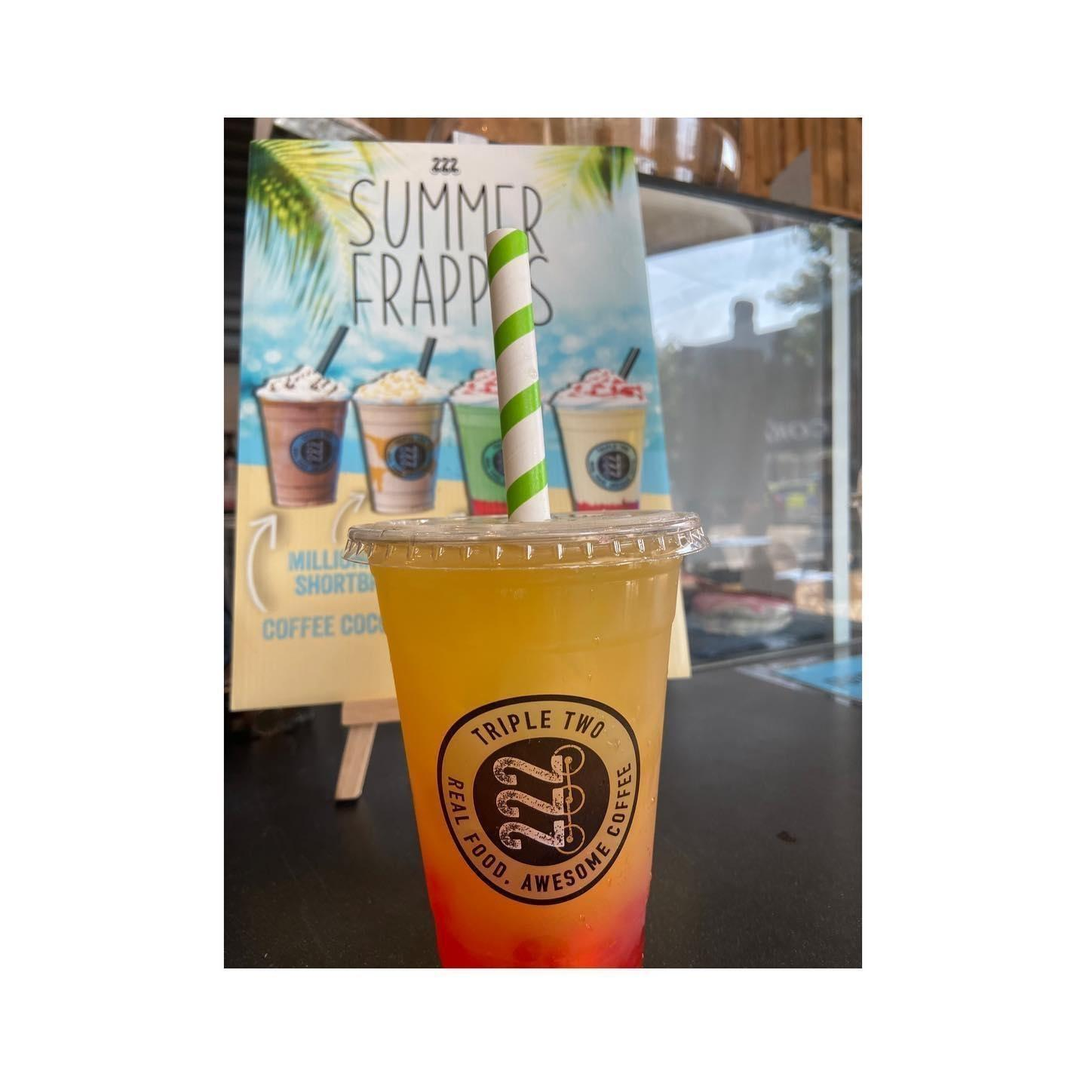cup-disposable: (333, 486, 710, 974)
